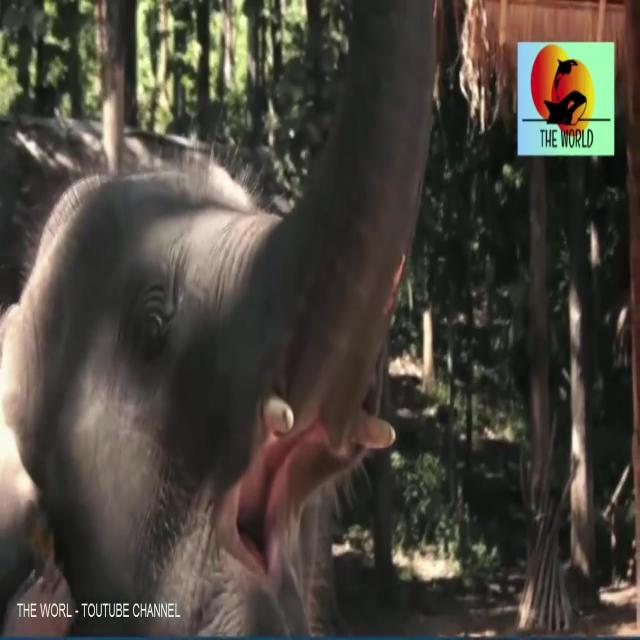Elephant: (0, 8, 468, 598)
